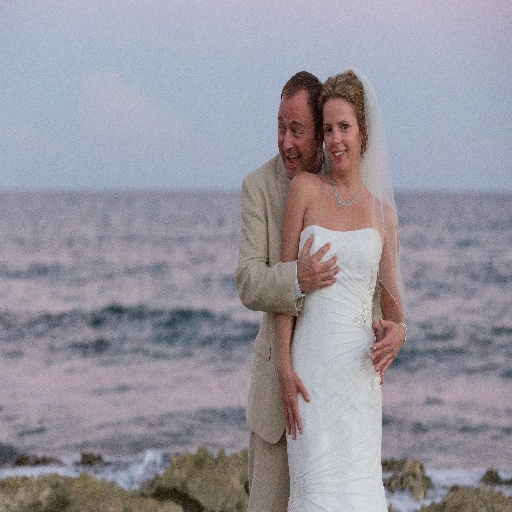hand: (277, 364, 310, 439), (302, 235, 339, 301), (370, 316, 404, 378), (371, 320, 383, 382)
